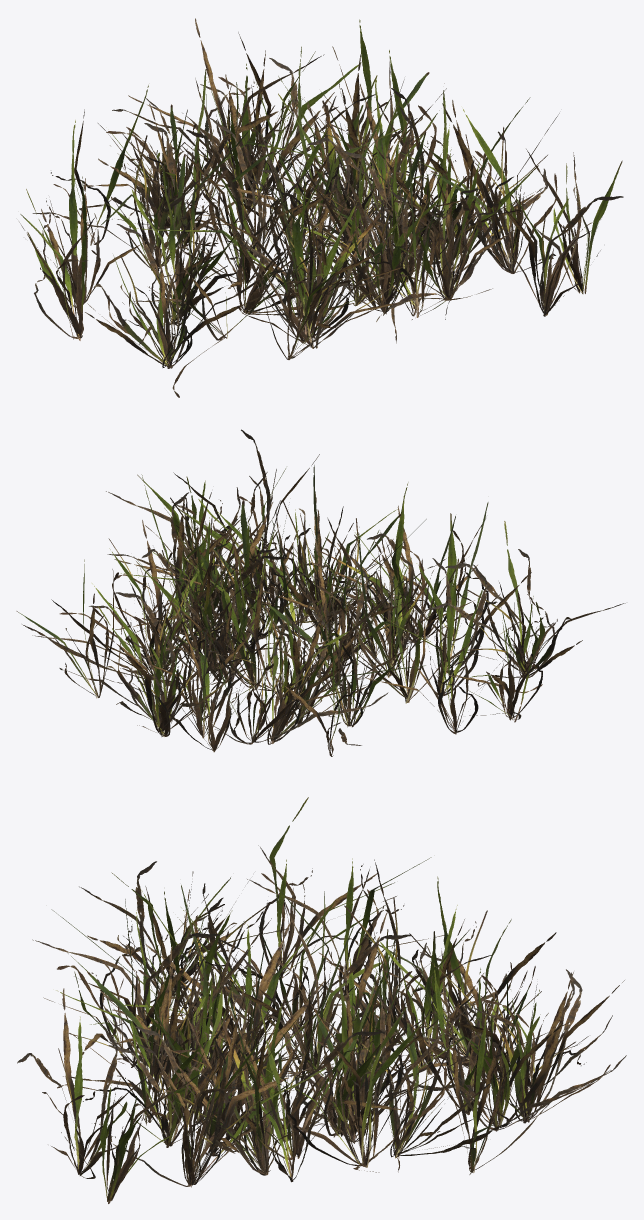
File: grass_tuft.glb
The picture shows the model from 3 angles, top to bottom: view 1: azimuth 30°, elevation 25°; view 2: azimuth 150°, elevation 25°; view 3: azimuth 270°, elevation 25°; orthographic projection. The views are drawn at different scales.
Parts seen in each view (by area): view 1: Megascans grass_tuft; view 2: Megascans grass_tuft; view 3: Megascans grass_tuft.
Part boxes in pixels (x1=…): Megascans grass_tuft: x1=19, y1=18, x2=623, y2=397; Megascans grass_tuft: x1=16, y1=429, x2=625, y2=756; Megascans grass_tuft: x1=17, y1=797, x2=626, y2=1203.
Size of the model in its own units: 0.6797 by 0.2551 by 0.6423.
1 material, 1 textured.
